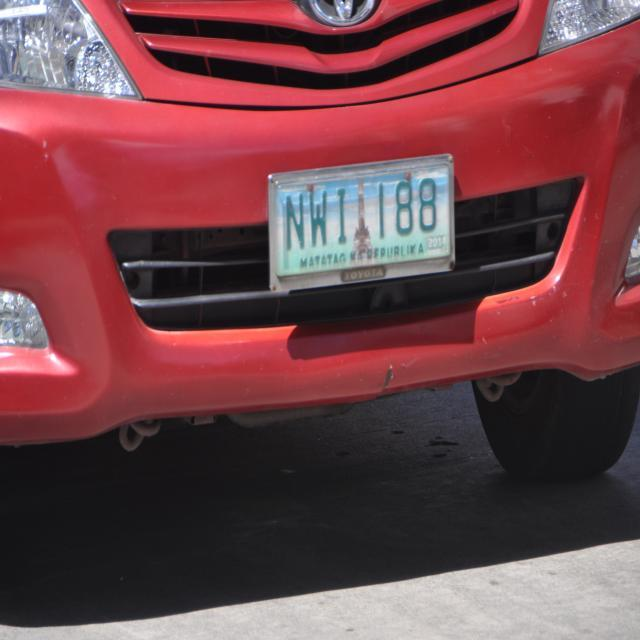LicensePlate: (266, 160, 455, 283)
